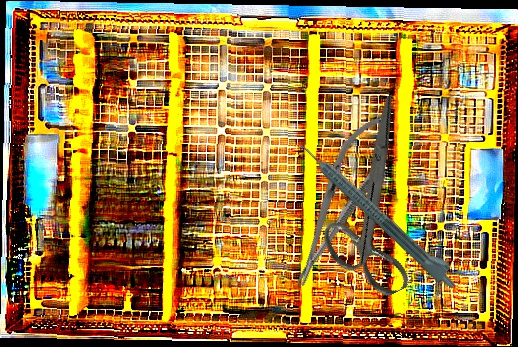Handpiece: (295, 133, 465, 293)
Iris Scissors: (279, 94, 471, 311)
Needle Holder: (278, 105, 402, 294)
